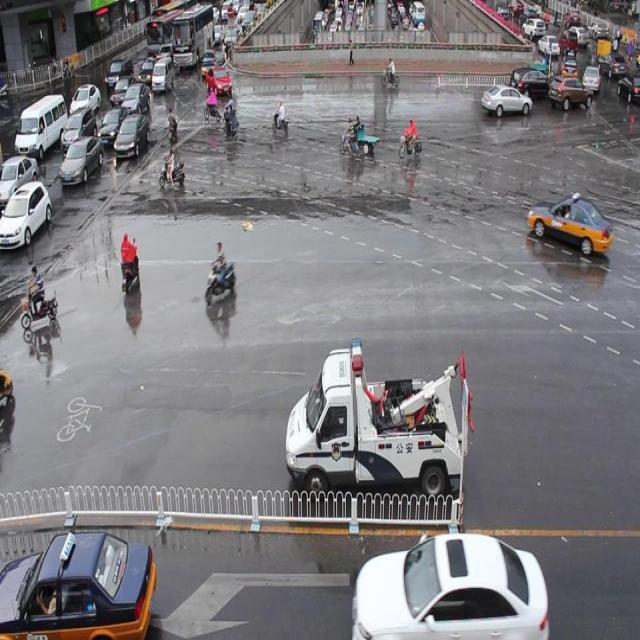bus: (285, 338, 464, 498)
car: (526, 192, 611, 252), (480, 83, 531, 116), (510, 68, 549, 98), (205, 65, 231, 98)
